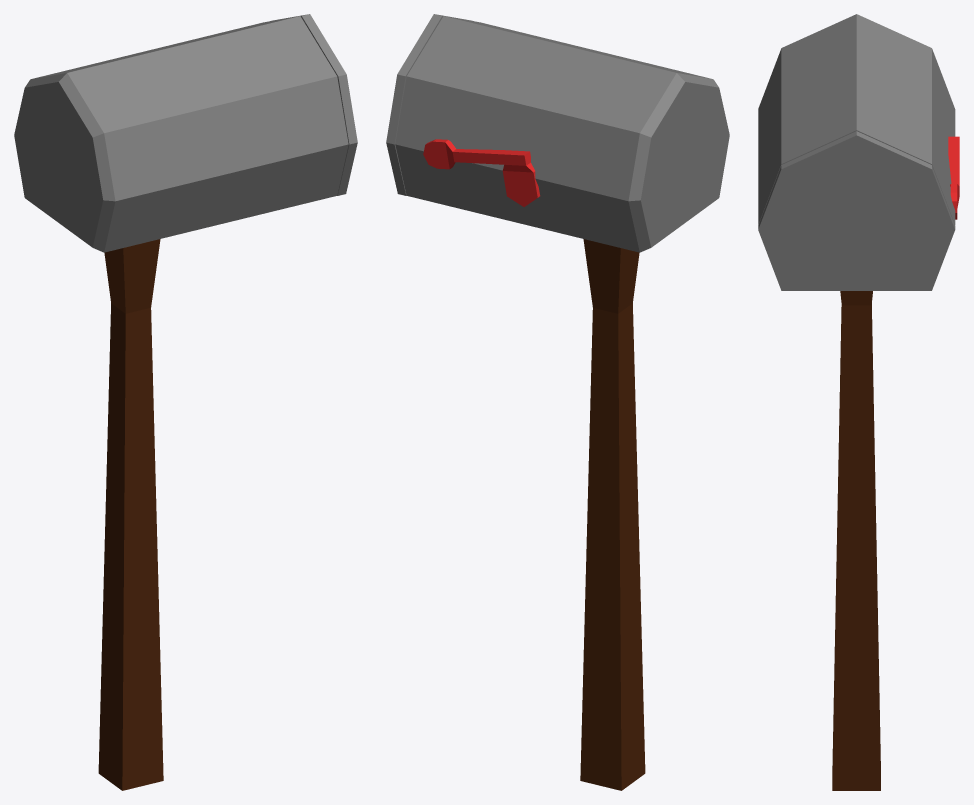
Rendered from Briefkasten2.fbx.
The picture shows the model from 3 angles, left to right: view 1: azimuth 30°, elevation 25°; view 2: azimuth 150°, elevation 25°; view 3: azimuth 270°, elevation 25°; orthographic projection. The views are drawn at different scales.
Visible parts, largest first — view 1: Cube.008; view 2: Cube.008, Cube.005; view 3: Cube.008, Cube.005.
Part boxes in pixels (x1,y1,x2,y2): Cube.008: (14,14,357,790); Cube.008: (386,14,729,790); Cube.005: (423,139,540,206); Cube.008: (758,14,955,790); Cube.005: (948,136,959,219).
Size of the model in its own units: 122 by 335 by 83.28.
